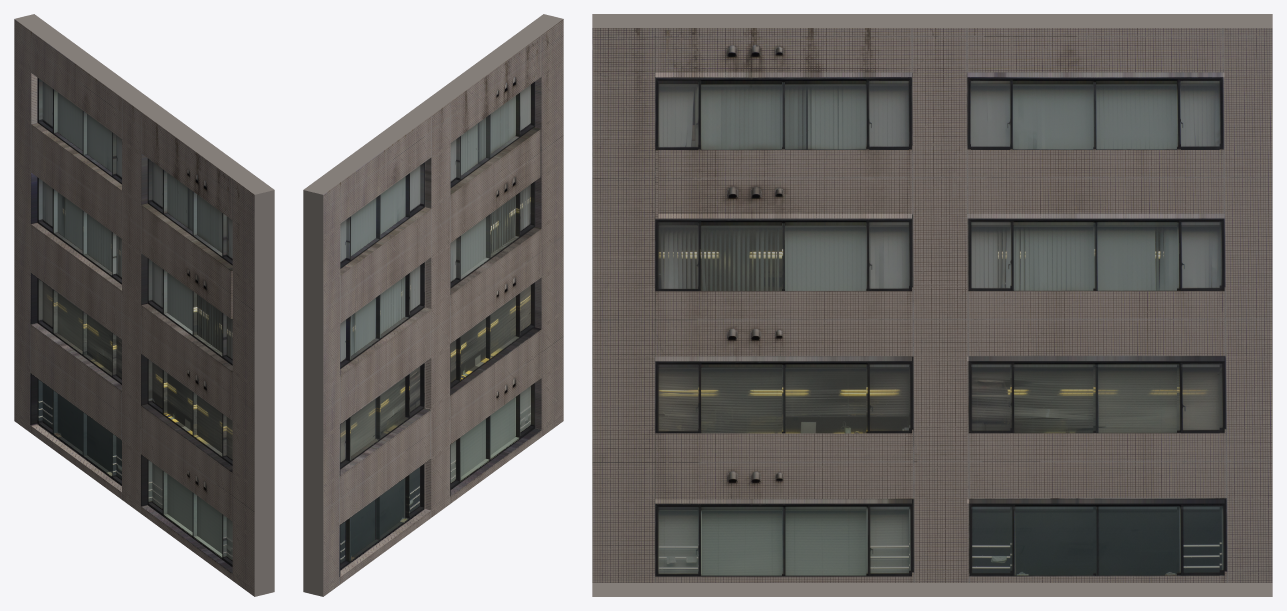
Rendered from facade4.fbx.
3 renders of one model, left to right at view 1: azimuth 30°, elevation 25°; view 2: azimuth 150°, elevation 25°; view 3: azimuth 270°, elevation 25°, orthographic. The views are drawn at different scales.
Visible parts, largest first — view 1: facade4; view 2: facade4; view 3: facade4.
Boxes of the visible parts, left/top/right/bottom form: facade4: left=14, top=14, right=274, bottom=596; facade4: left=303, top=14, right=563, bottom=596; facade4: left=592, top=14, right=1272, bottom=596.
Bounding box in the file's own units: 2.3 × 43.87 × 47.55.
2 materials, 2 textured.
